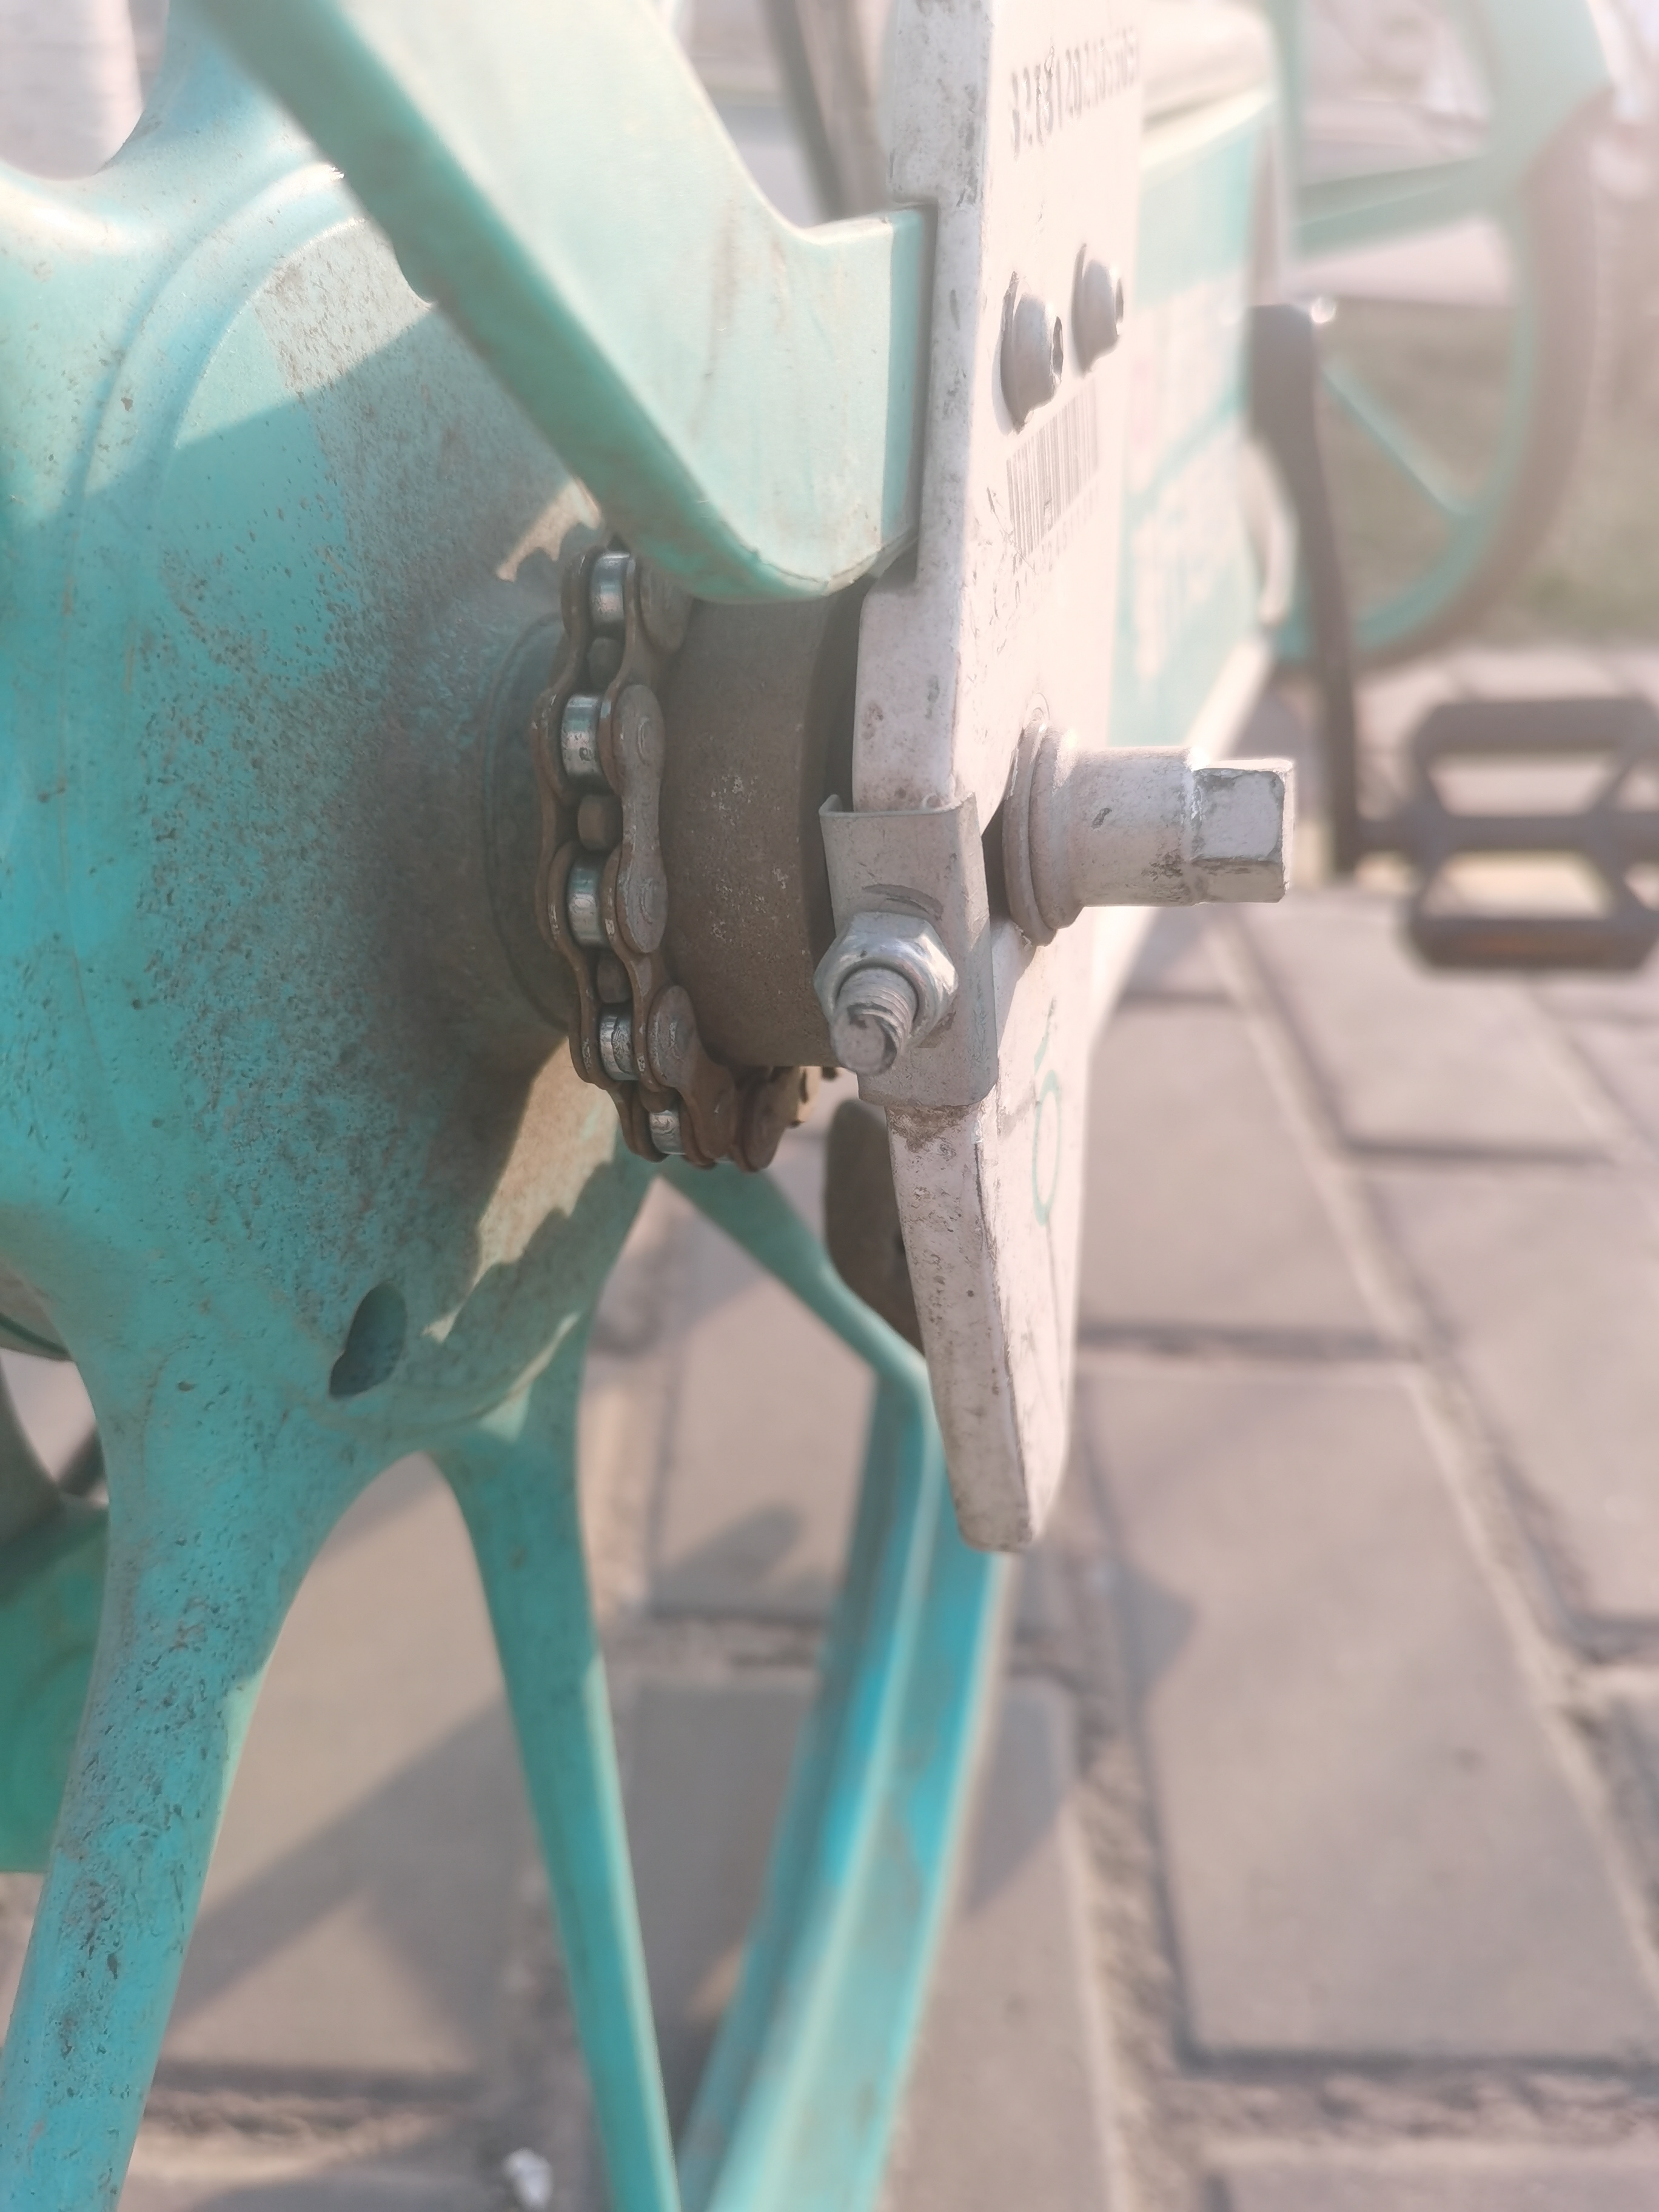bolt_b: (805, 906, 964, 1064)
